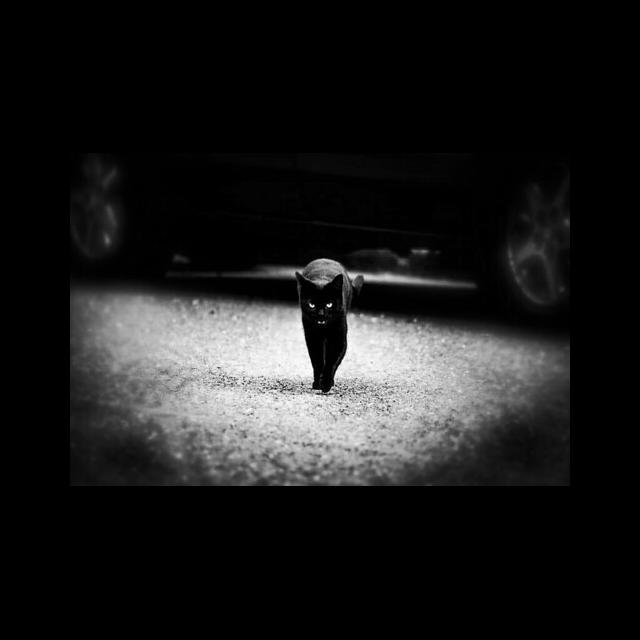animals: (295, 258, 366, 392)
